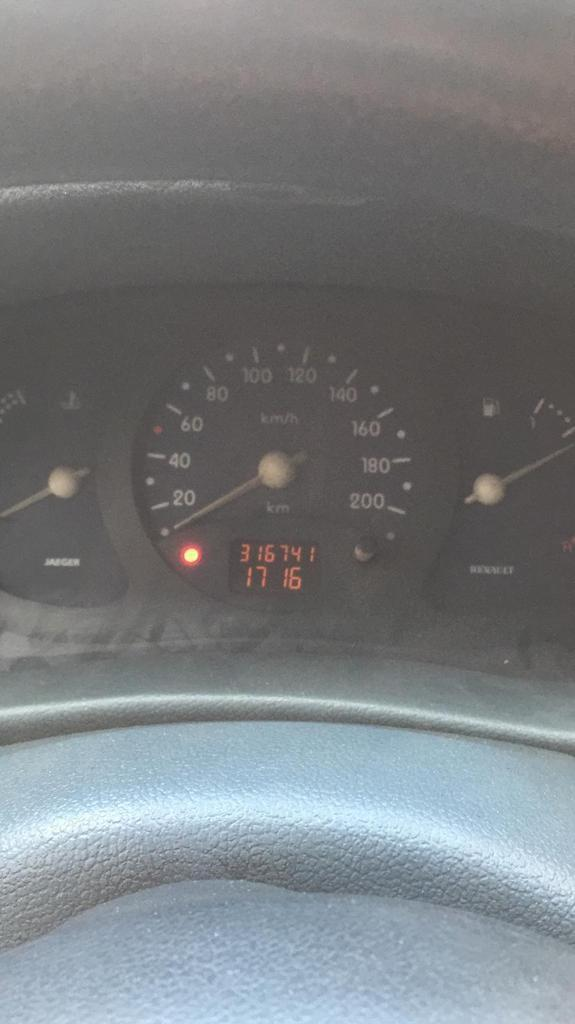1: (283, 566, 289, 587), (246, 565, 251, 589), (309, 544, 315, 563), (257, 544, 263, 561)
3: (240, 543, 250, 562)
4: (290, 545, 303, 562)
6: (289, 565, 302, 589), (264, 544, 275, 562)
7: (255, 565, 267, 588), (279, 543, 288, 561)
odometer: (227, 537, 323, 597)
